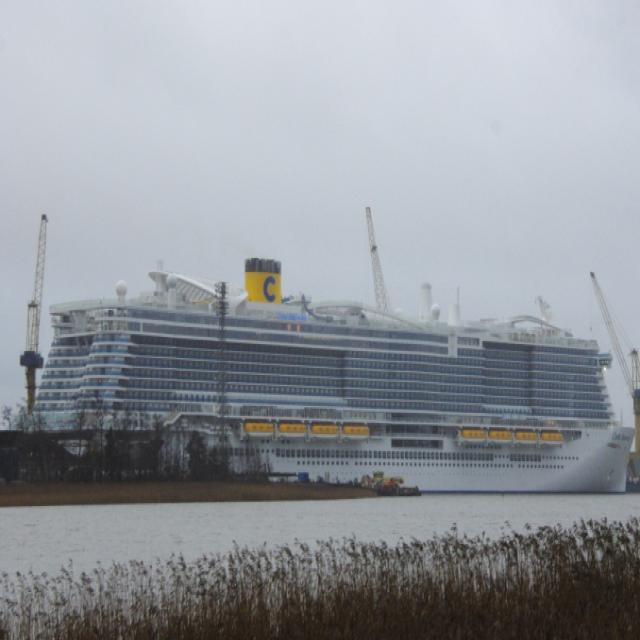cruises: (23, 252, 639, 506)
